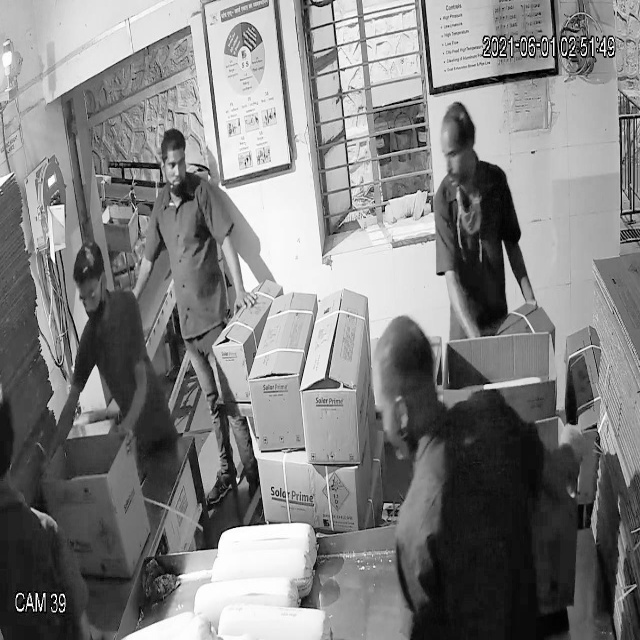Gafas: (70, 268, 112, 312)
Sin_gafas: (434, 132, 481, 172)
